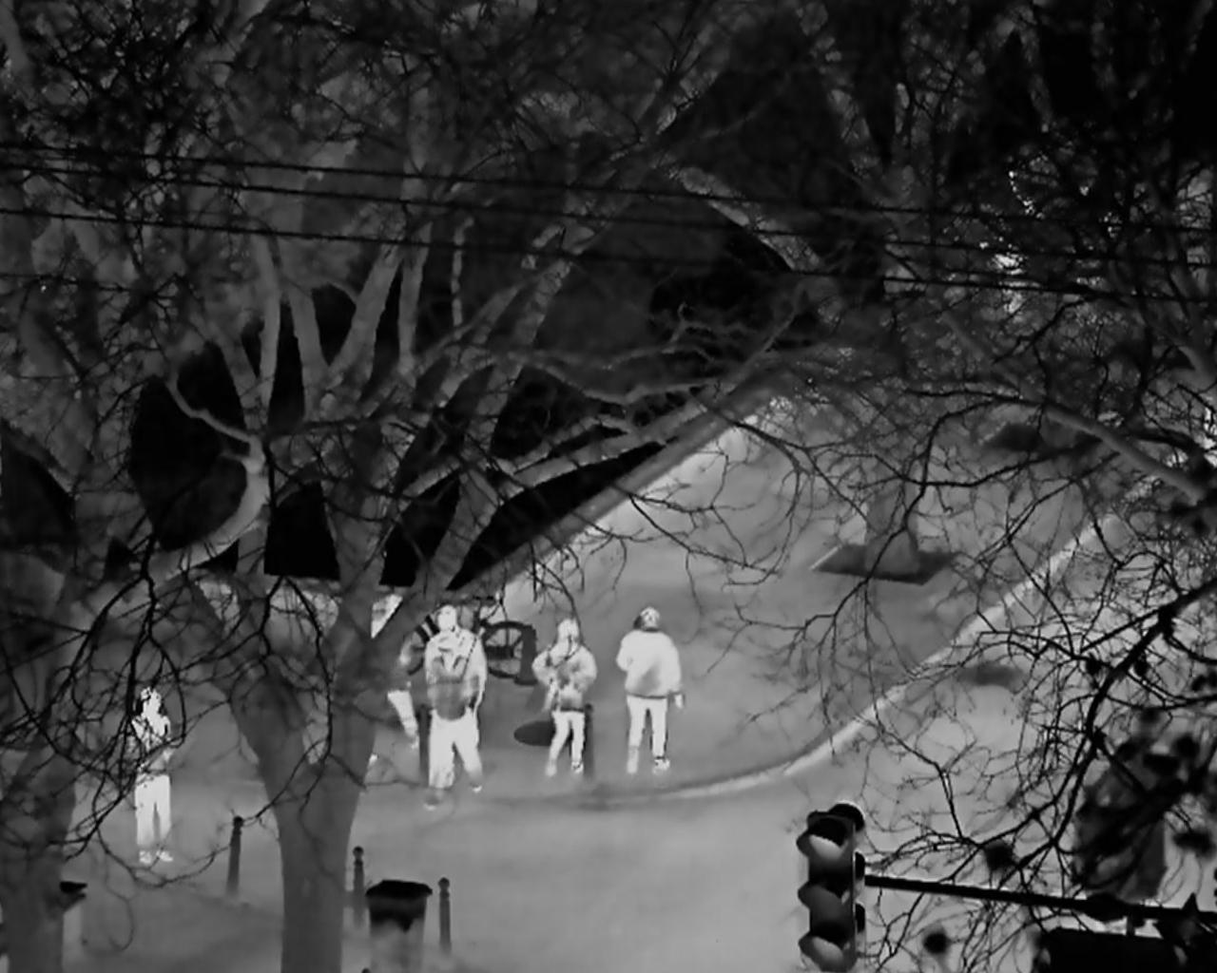person: (614, 604, 686, 773), (529, 617, 597, 781), (425, 632, 483, 804), (125, 688, 177, 867)
